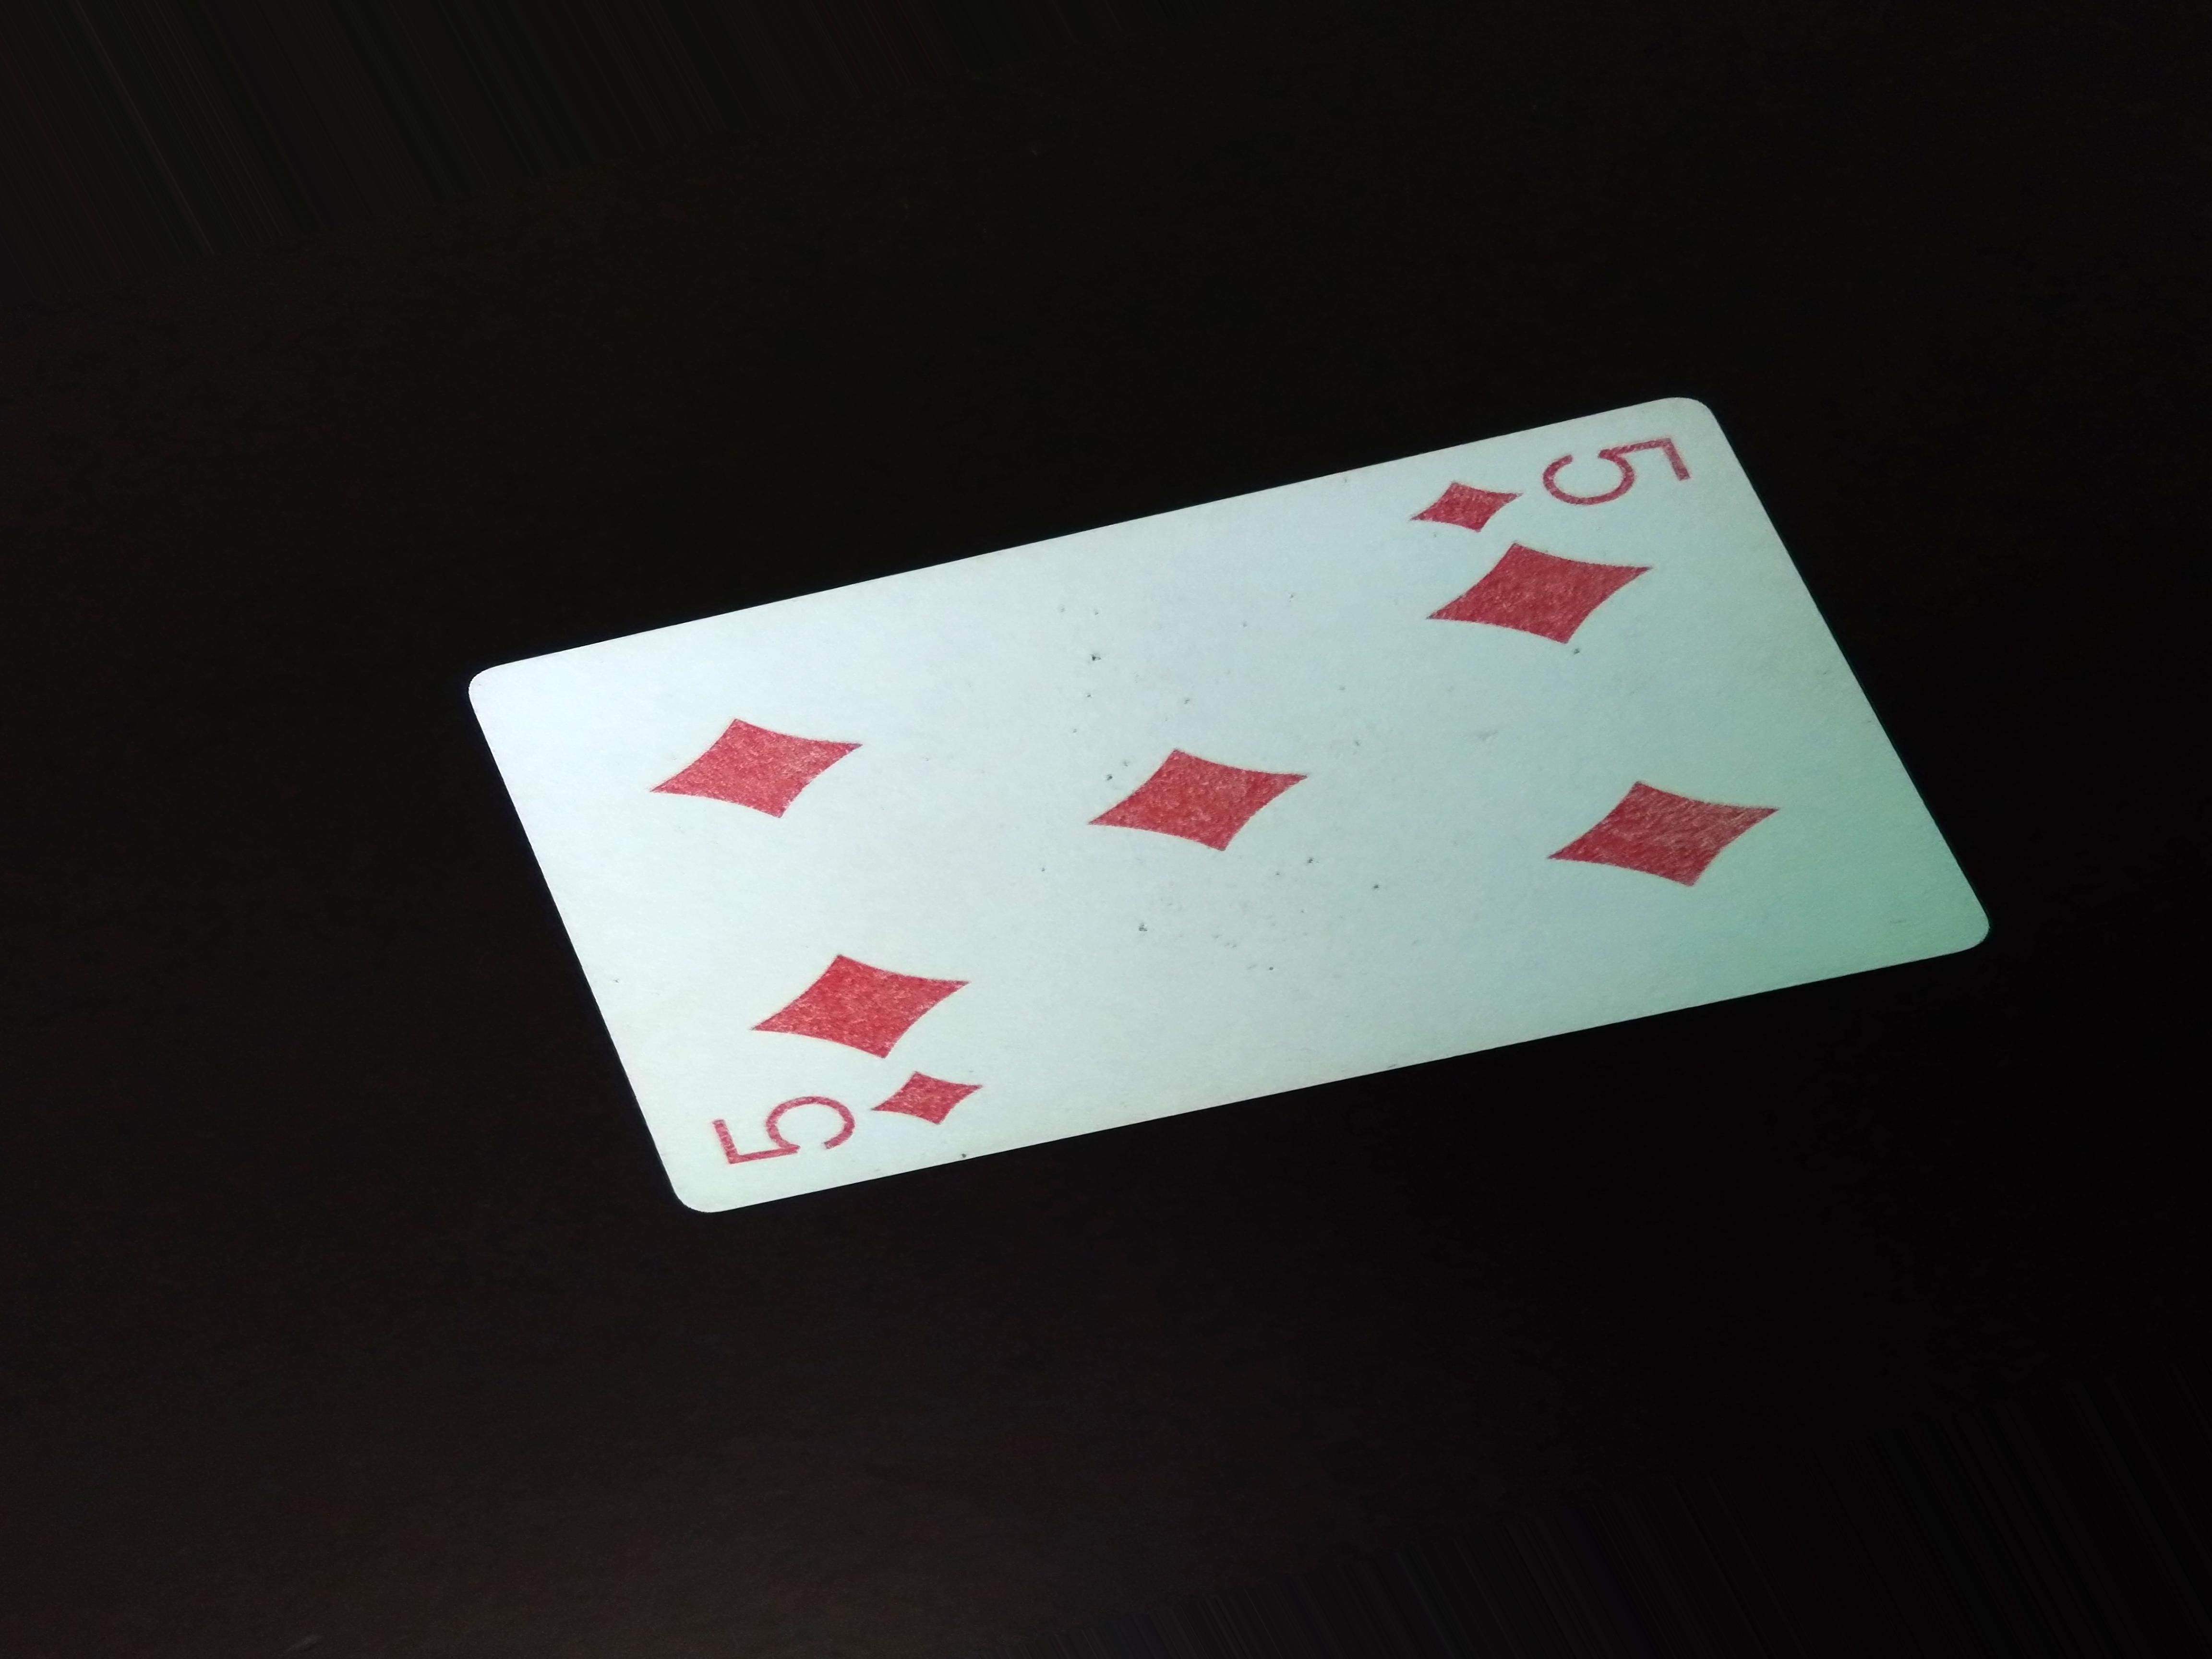5D: (681, 1072, 986, 1176)
